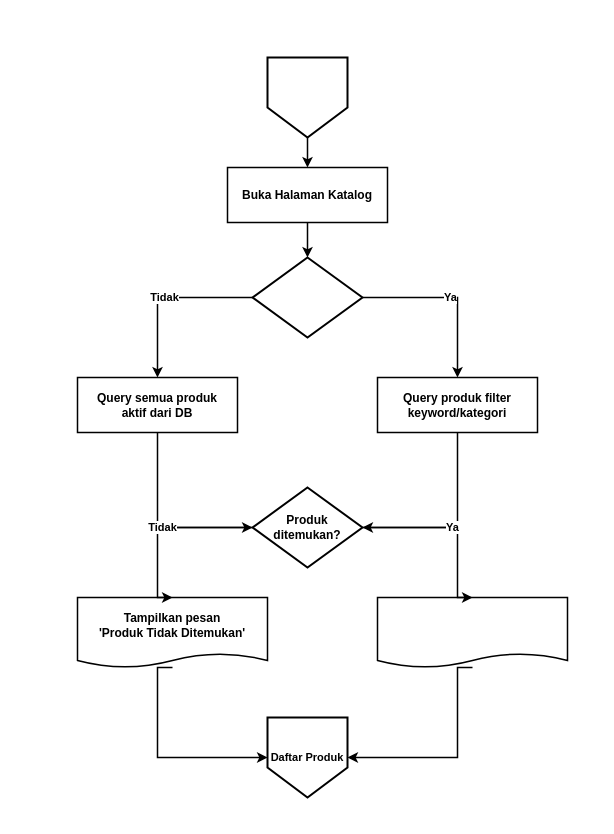
The diagram is 614 pixels wide and 834 high, and some of its shapes have lost their labels. The shapes that lost their labels are listed below. From the top down, each one's centre as x and y in pixels, then its label:
(307,97): Halaman Katalog
(307,297): Cari produk / filter?
(472,632): Tampilkan daftar produk madu
